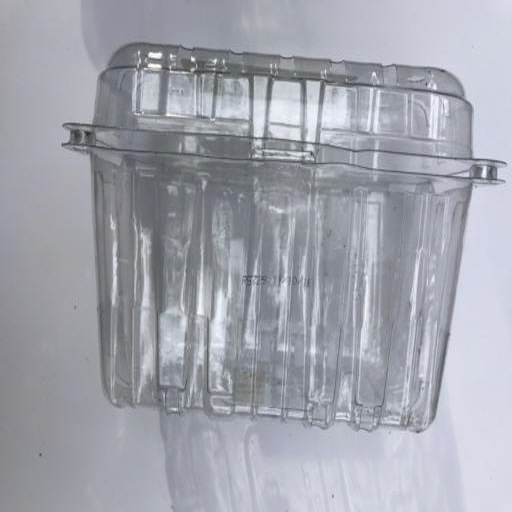Plastic_4: (65, 41, 506, 433)
